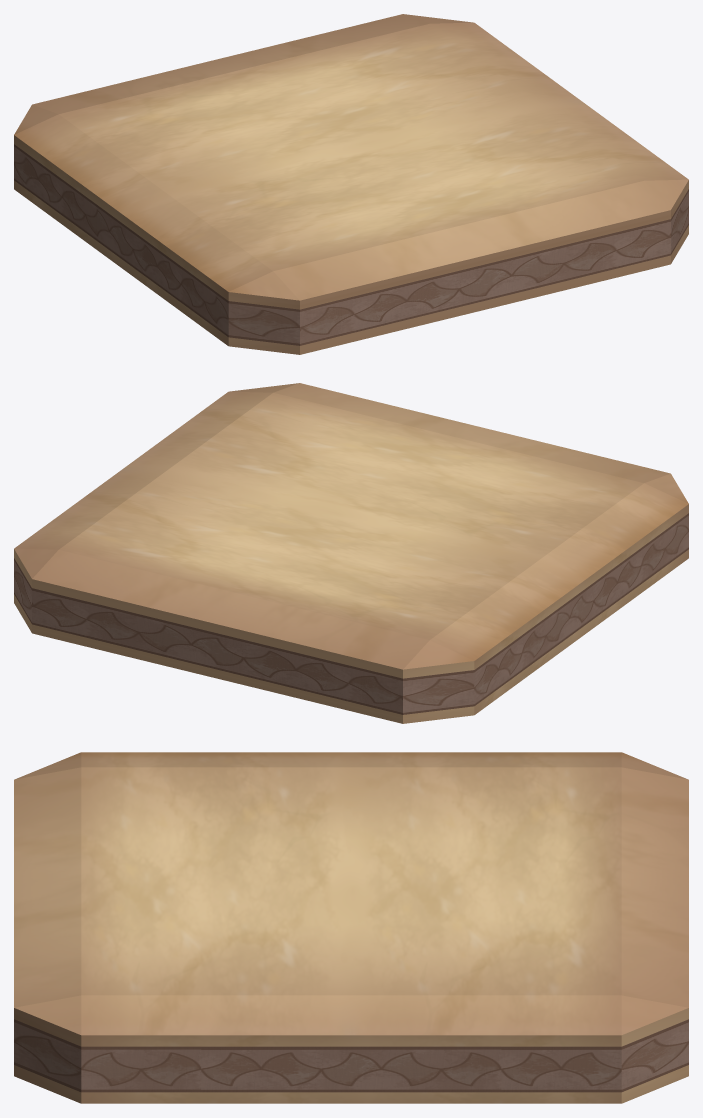
Rendered from PlatformSquare.fbx.
3 views of the same model, one above another, from view 1: azimuth 30°, elevation 25°; view 2: azimuth 150°, elevation 25°; view 3: azimuth 270°, elevation 25° (orthographic). The views are drawn at different scales.
Visible parts, largest first — view 1: Cube; view 2: Cube; view 3: Cube.
Part boxes in pixels (x1,y1,x2,y2): Cube: (14, 14, 688, 354); Cube: (14, 383, 688, 723); Cube: (14, 752, 688, 1103).
Size of the model in its own units: 198 by 30.47 by 200.
1 material, 1 textured.
